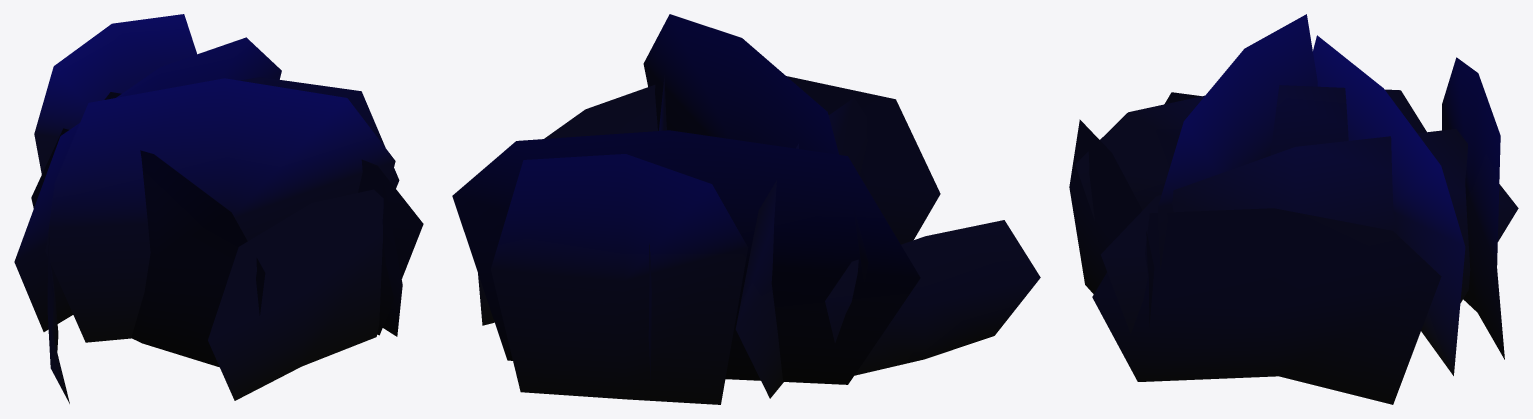
File: SM_Grass_S_Patch_S_02.fbx
The picture shows the model from 3 angles, left to right: view 1: azimuth 30°, elevation 25°; view 2: azimuth 150°, elevation 25°; view 3: azimuth 270°, elevation 25°; orthographic projection. The views are drawn at different scales.
Parts seen in each view (by area): view 1: SM_Grass_S_Patch_S_02; view 2: SM_Grass_S_Patch_S_02; view 3: SM_Grass_S_Patch_S_02.
Part boxes in pixels (box(x1,y1,x2,y2)): SM_Grass_S_Patch_S_02: box(14, 14, 423, 403); SM_Grass_S_Patch_S_02: box(452, 14, 1040, 404); SM_Grass_S_Patch_S_02: box(1069, 14, 1518, 404).
Bounding box in the file's own units: 63.03 × 54.55 × 36.21.
